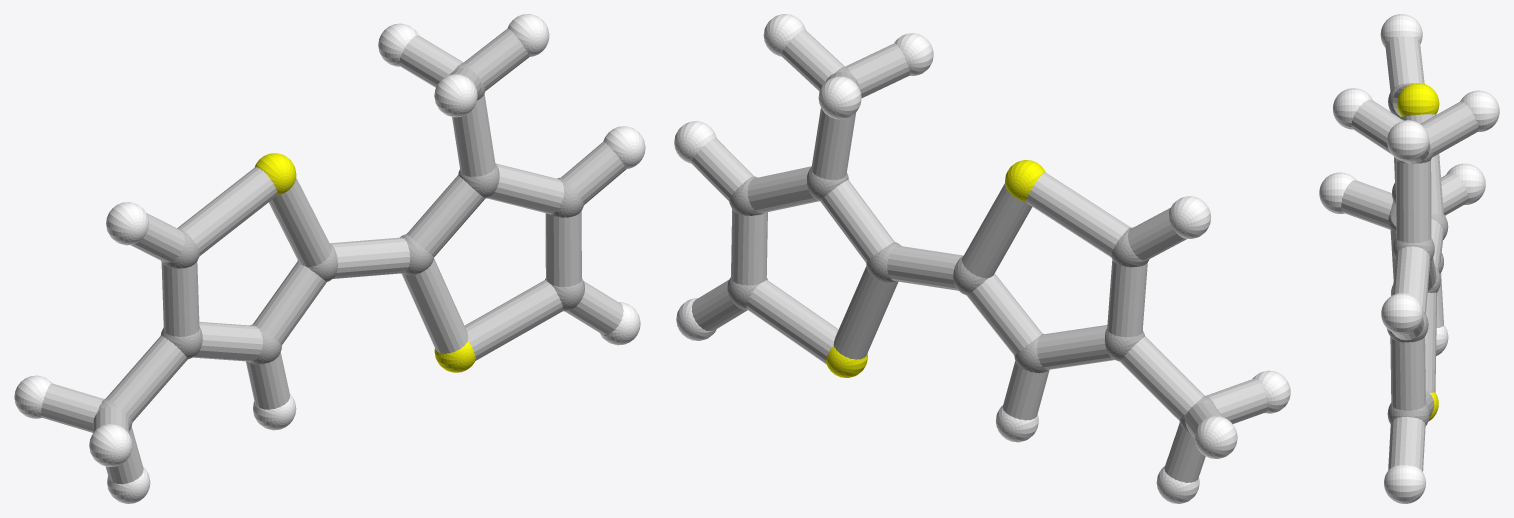
Rendered from color.glb.
3 renders of one model, left to right at view 1: azimuth 30°, elevation 25°; view 2: azimuth 150°, elevation 25°; view 3: azimuth 270°, elevation 25°, orthographic. The views are drawn at different scales.
Parts seen in each view (by area): view 1: grp7965, grp3621, grp1, grp7241; view 2: grp7965, grp3621, grp1, grp7241; view 3: grp7965, grp3621, grp1, grp7241.
Part boxes in pixels (<box>): grp7965: <box>41,28,626,484</box>; grp3621: <box>14,14,645,503</box>; grp1: <box>97,63,584,430</box>; grp7241: <box>255,153,475,372</box>; grp7965: <box>691,29,1267,482</box>; grp3621: <box>674,14,1290,503</box>; grp1: <box>727,67,1216,432</box>; grp7241: <box>826,160,1045,377</box>; grp7965: <box>1341,36,1478,471</box>; grp3621: <box>1319,14,1499,503</box>; grp1: <box>1387,83,1448,425</box>; grp7241: <box>1397,83,1439,421</box>.
Size of the model in its own units: 9.48 by 5.96 by 2.57.
